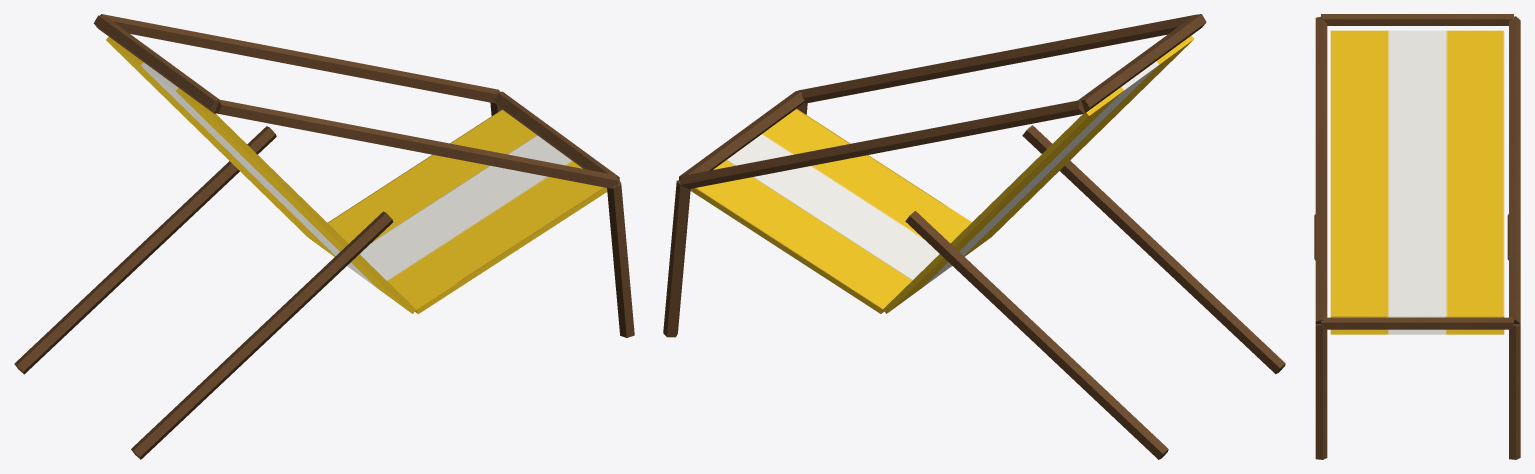
The model's file is lehatko_ba85bfb9.glb.
3 views of the same model, side by side, from view 1: azimuth 30°, elevation 25°; view 2: azimuth 150°, elevation 25°; view 3: azimuth 270°, elevation 25° (orthographic). The views are drawn at different scales.
Parts seen in each view (by area): view 1: dum; view 2: dum; view 3: dum.
Boxes of the visible parts, x1,y1,x2,y2 form: dum: (14,14,634,459); dum: (663,14,1285,459); dum: (1314,14,1520,459).
Size of the model in its own units: 1.49 by 0.9624 by 0.6383.
1 material, 1 textured.
